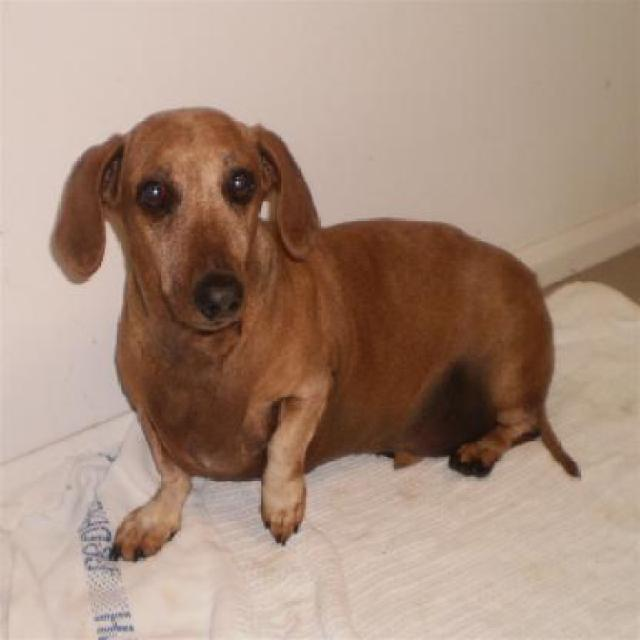Dog: (51, 105, 584, 566)
